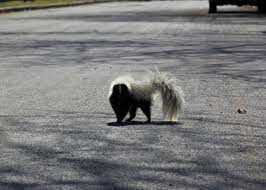skunk: (109, 74, 182, 124)
